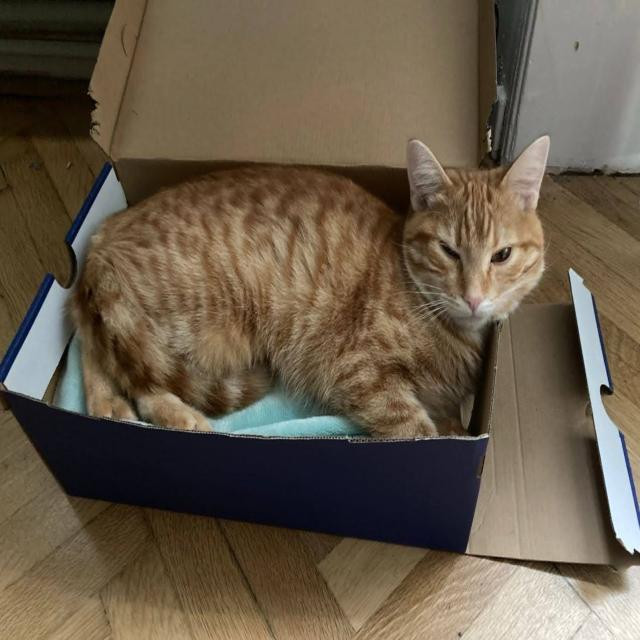red_cat: (68, 136, 554, 437)
